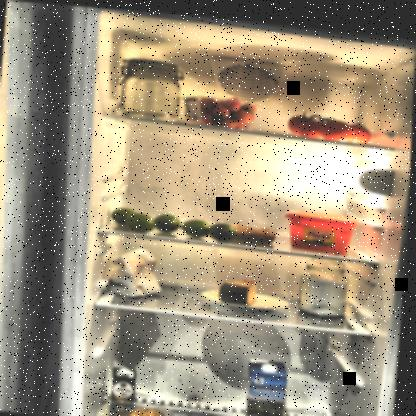butter: (283, 203, 364, 250)
cheese: (213, 269, 272, 306)
heavy_cream: (113, 364, 142, 412)
lime: (112, 204, 240, 239)
milk: (243, 352, 296, 415)
potato: (103, 396, 182, 415)
shrimp: (232, 217, 281, 241)
strawberries: (183, 88, 260, 128)
tomato: (284, 105, 380, 143)
